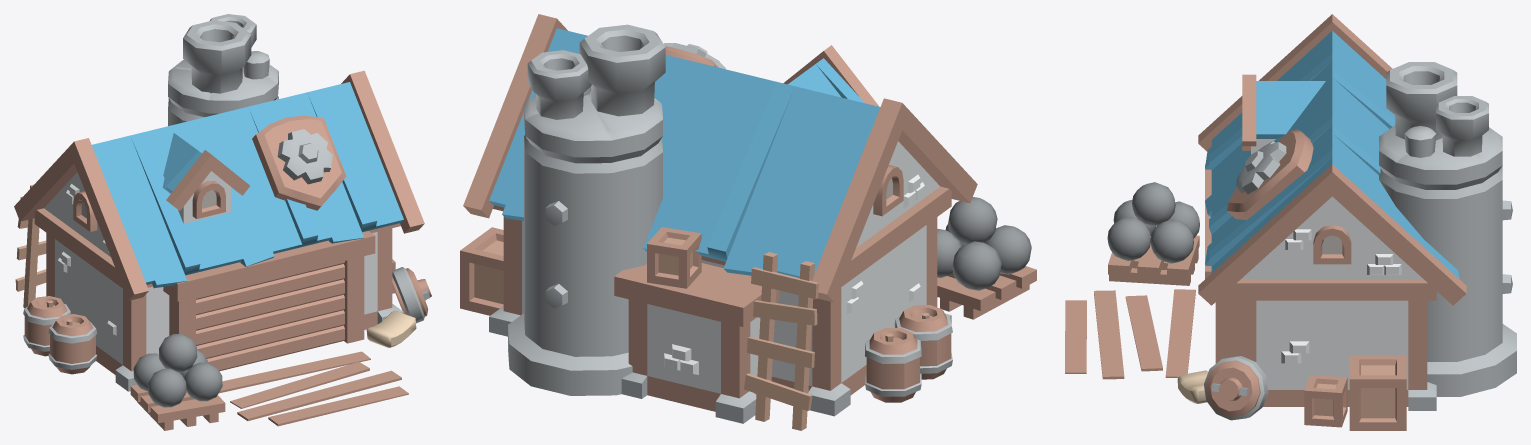
The model's file is workshop_part.glb.
The picture shows the model from 3 angles, left to right: view 1: azimuth 30°, elevation 25°; view 2: azimuth 150°, elevation 25°; view 3: azimuth 270°, elevation 25°; orthographic projection. The views are drawn at different scales.
Parts seen in each view (by area): view 1: X_building_workshop_blue; view 2: X_building_workshop_blue; view 3: X_building_workshop_blue.
Part boxes in pixels (bbox=[...]): X_building_workshop_blue: bbox=[14, 14, 431, 430]; X_building_workshop_blue: bbox=[460, 14, 1036, 430]; X_building_workshop_blue: bbox=[1065, 14, 1516, 430].
Size of the model in its own units: 1.67 by 1.15 by 1.67.
